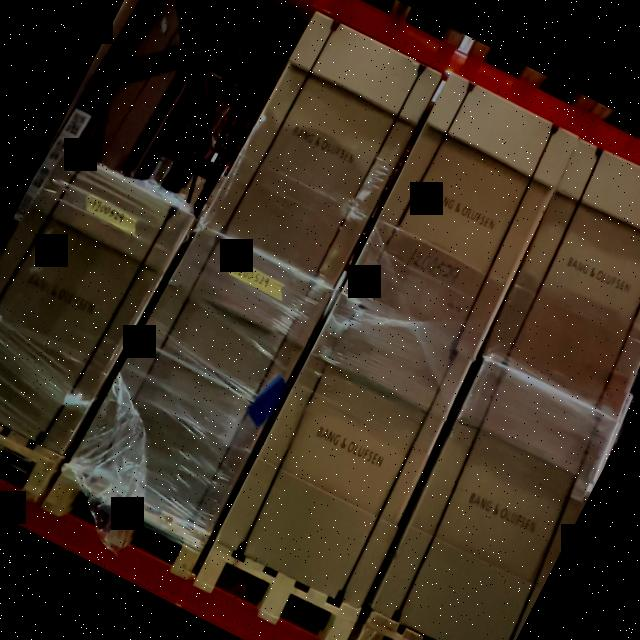box: (217, 301, 481, 611), (75, 221, 332, 533), (339, 76, 582, 366), (204, 8, 441, 288), (381, 369, 621, 640), (0, 144, 189, 449), (480, 142, 640, 417)
